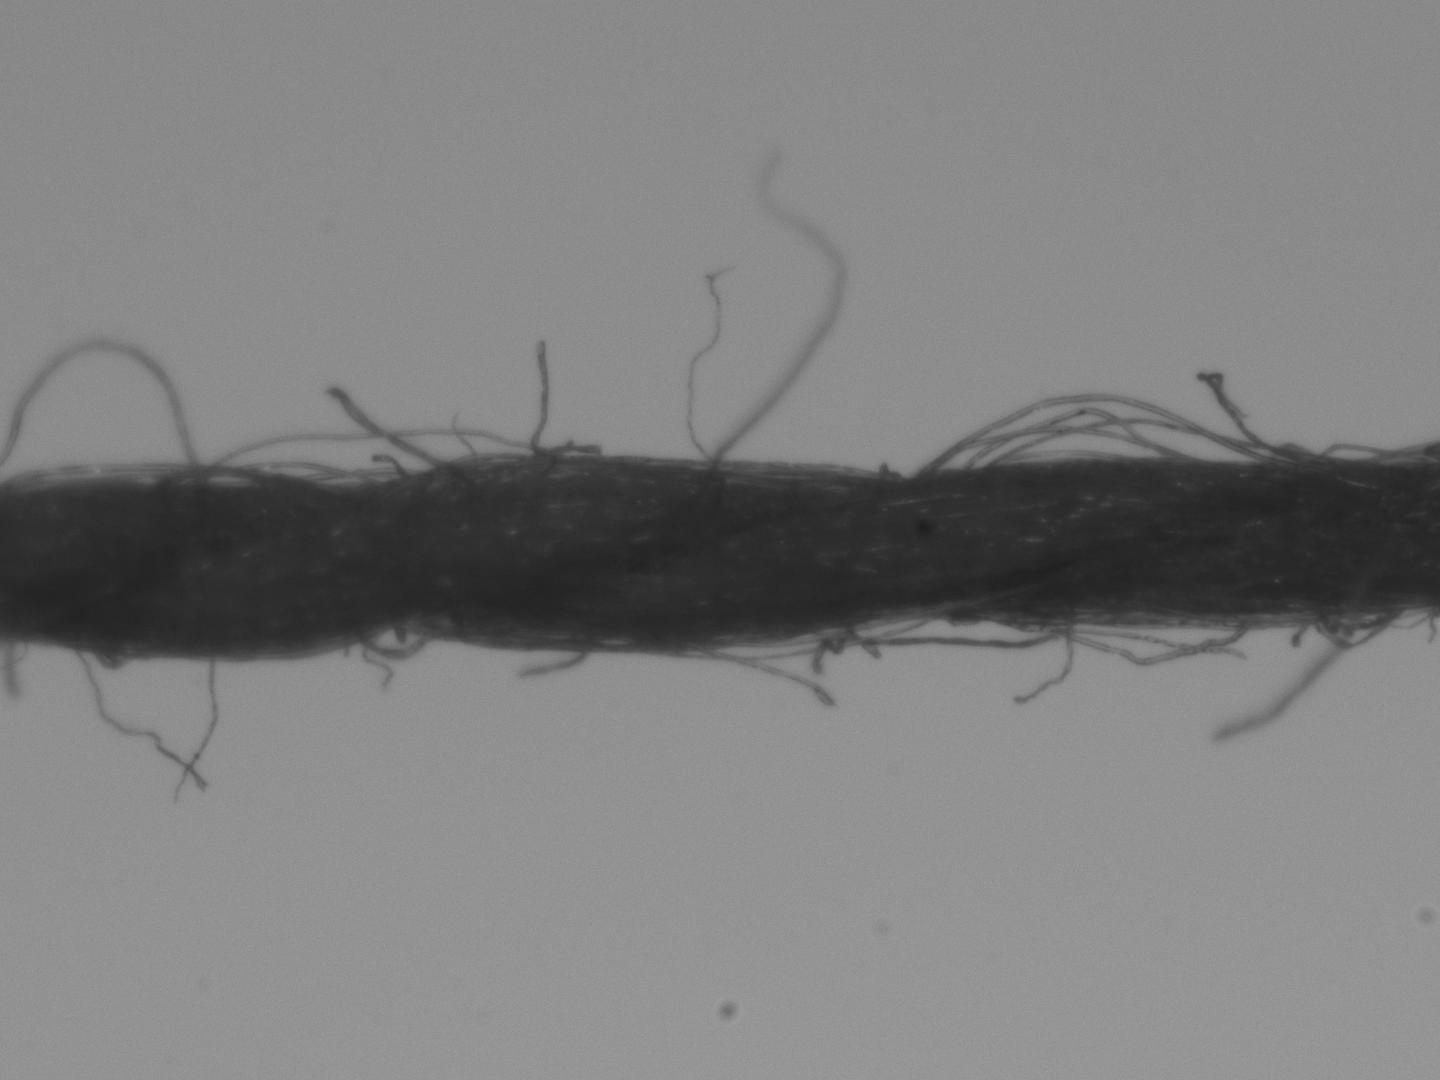loop_fiber: (916, 397, 1265, 486), (660, 611, 925, 663), (1044, 621, 1238, 666), (152, 463, 291, 495), (1313, 605, 1395, 648), (356, 624, 430, 660), (302, 466, 408, 489), (1327, 444, 1418, 459)
protruding_fiber: (704, 145, 842, 464), (70, 648, 202, 792), (1217, 613, 1357, 737), (330, 385, 439, 466), (1196, 372, 1294, 463), (1016, 615, 1077, 711), (526, 335, 549, 461), (519, 641, 588, 682)
